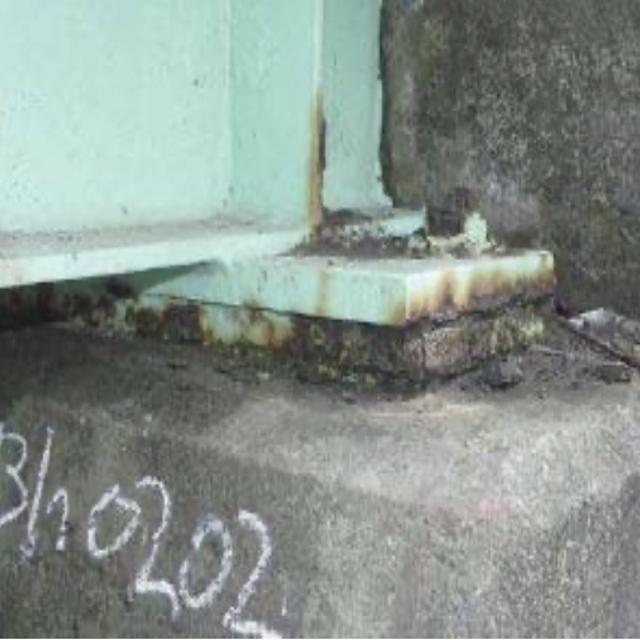corrosion: (256, 120, 554, 386)
